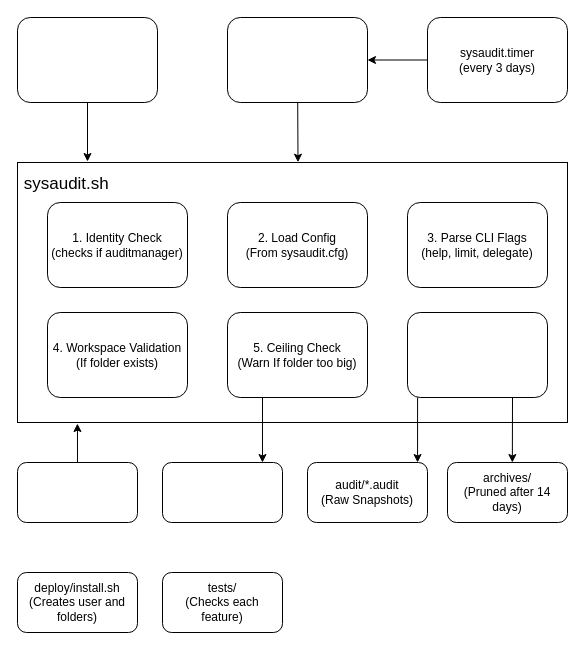
Some shapes in this 585 by 650 pixel diagram are drawn without their labels. The centre of each missing label's shape, as x and y in pixels:
6. Compress and Clean (Archive and Pruning): (x=477, y=355)
daemon.log (Run History): (x=222, y=492)
Manual CLI Run: (x=87, y=59)
sysaudit.cfg (Settings and Limits): (x=77, y=492)
sysaudit.service (Runs as auditmanager): (x=297, y=59)
